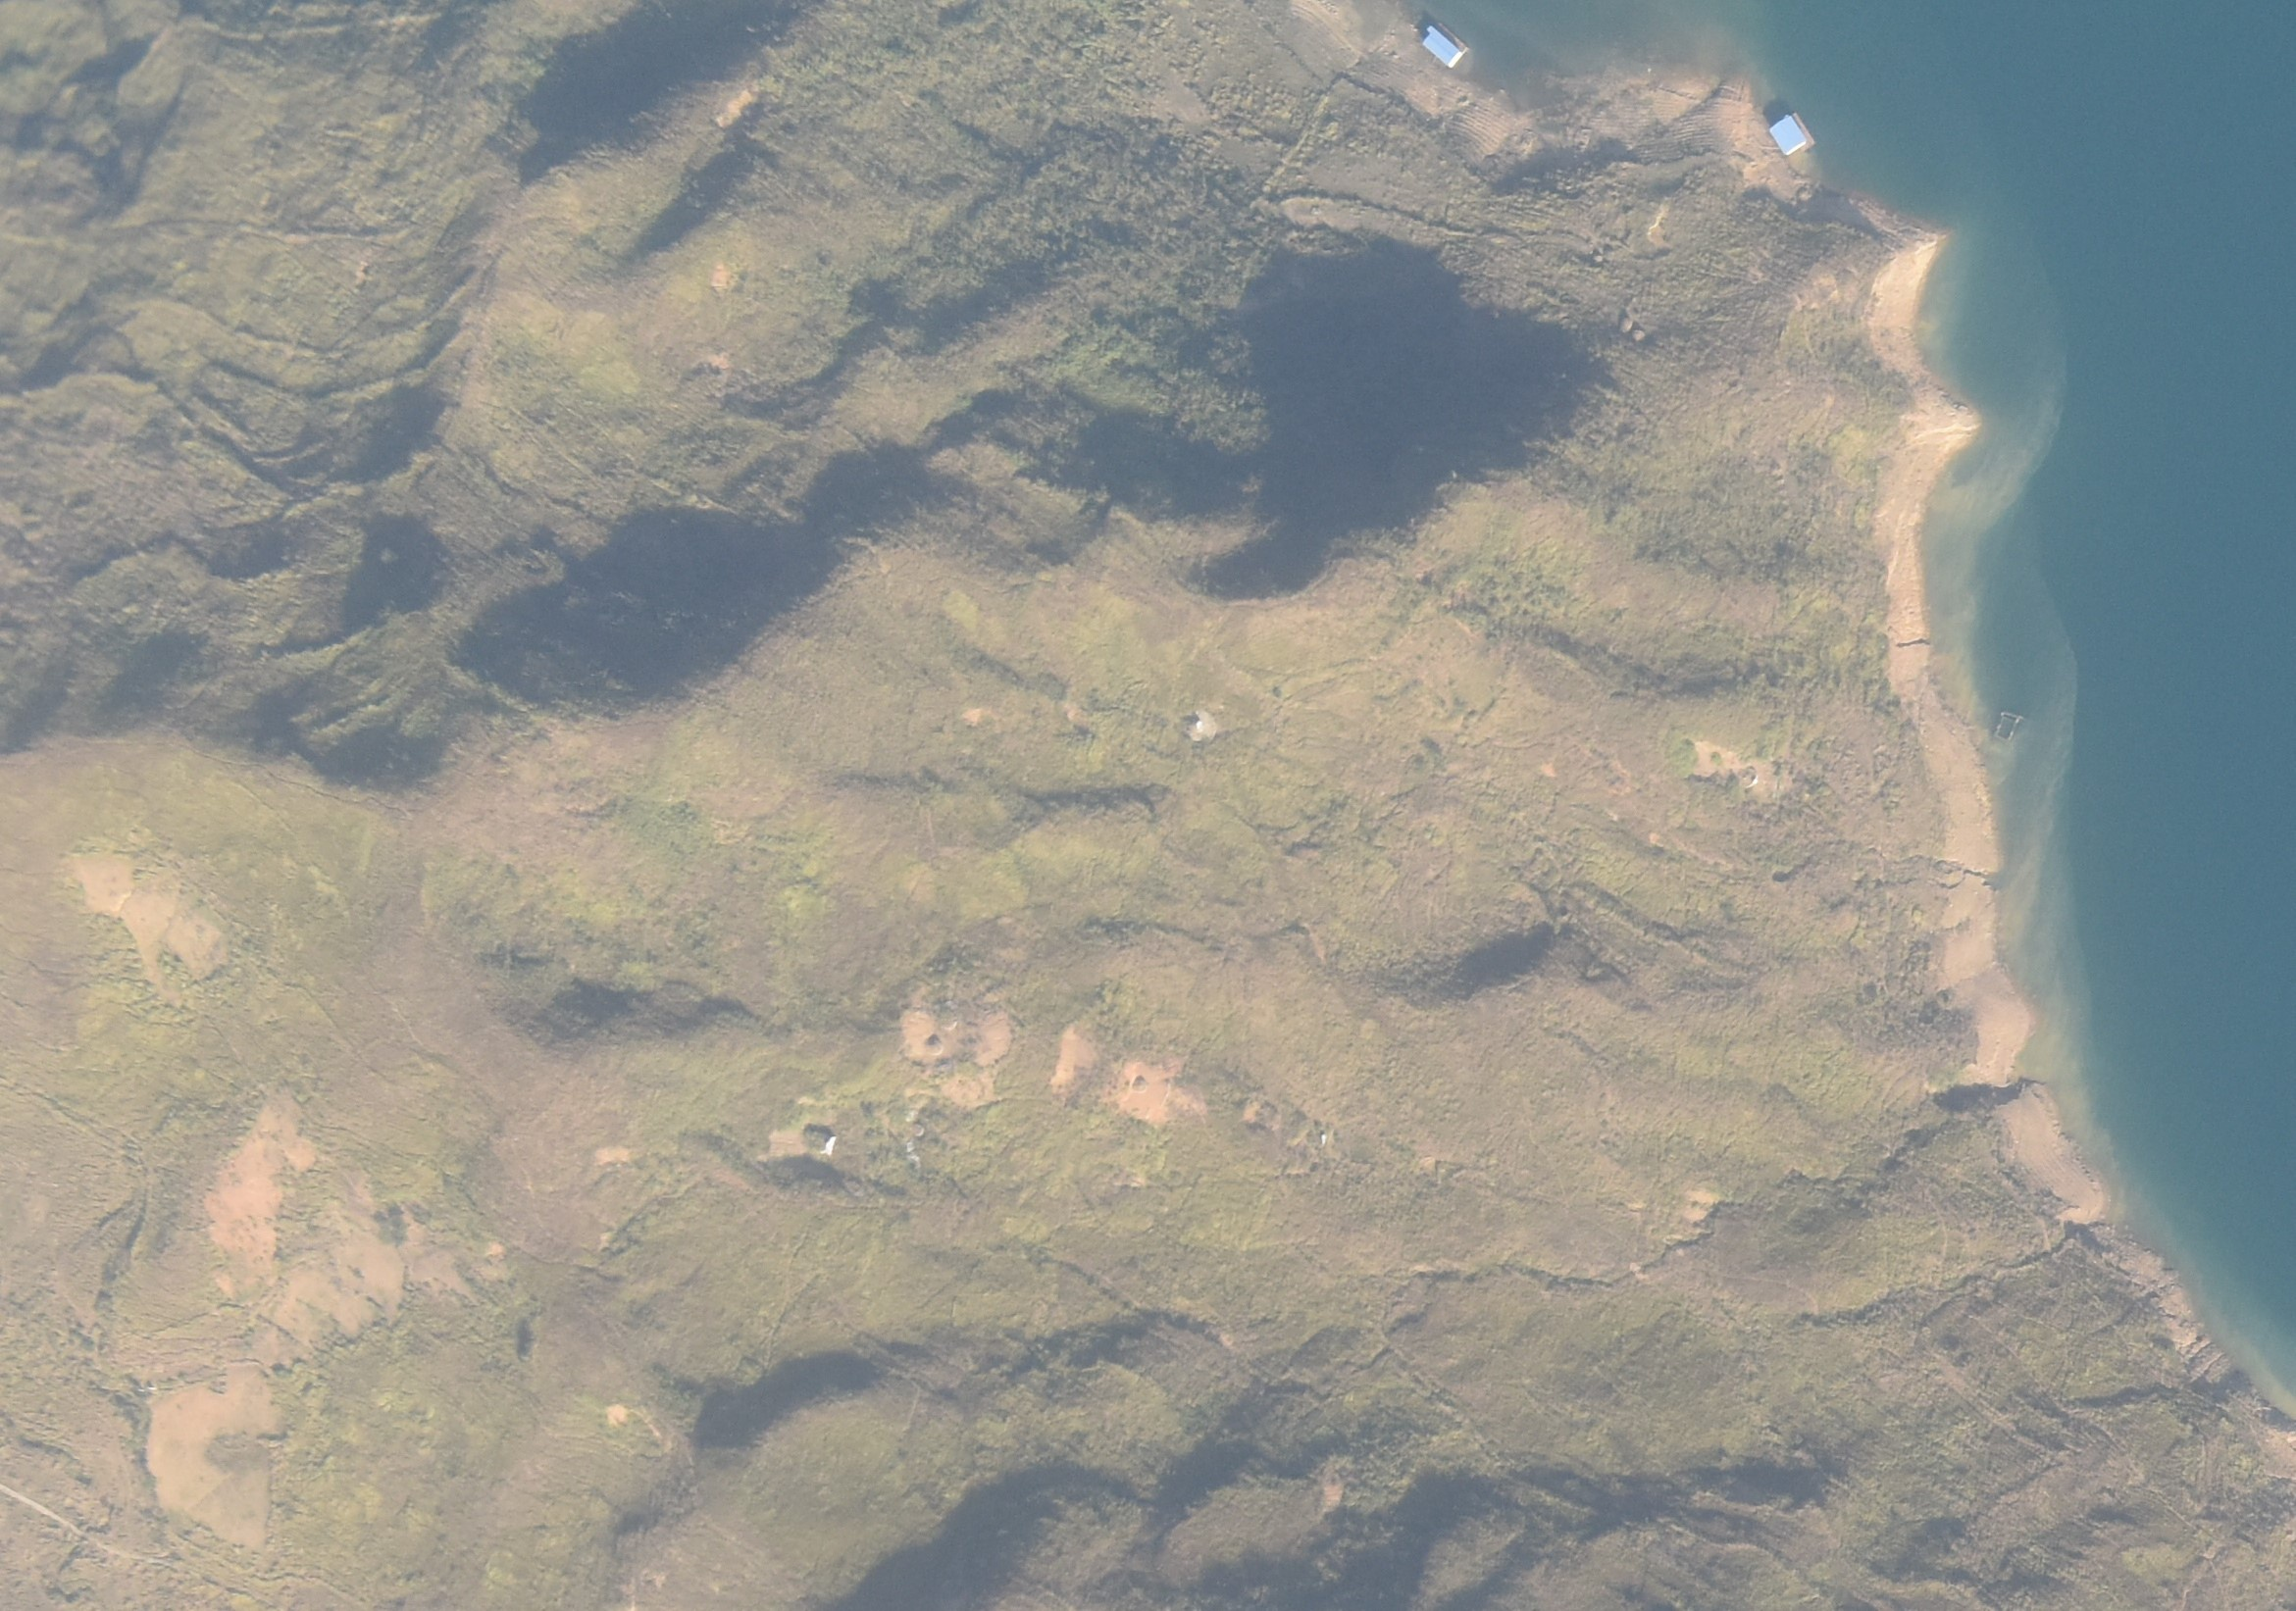prefabricated-house: (1767, 114, 1811, 158), (1423, 24, 1460, 64)
